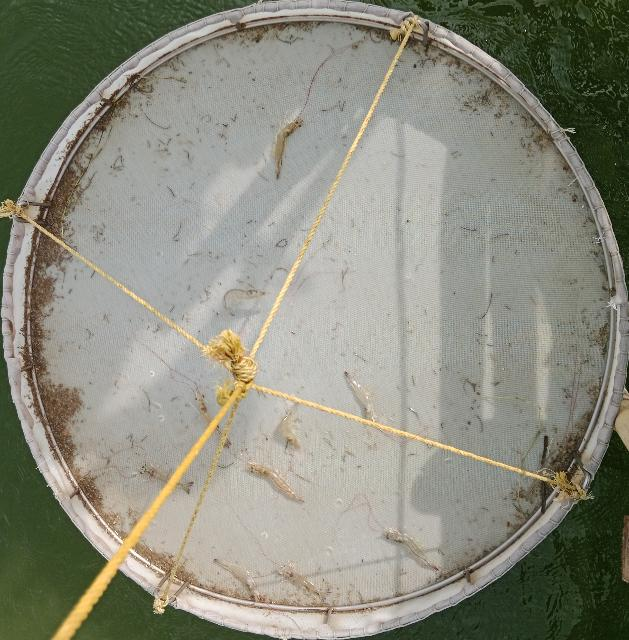shrimp: (246, 463, 305, 501), (382, 532, 439, 570), (196, 388, 231, 449), (275, 566, 332, 603), (215, 559, 263, 602), (275, 118, 303, 179), (137, 465, 194, 494), (345, 372, 374, 426), (223, 289, 268, 316), (280, 407, 301, 450)
